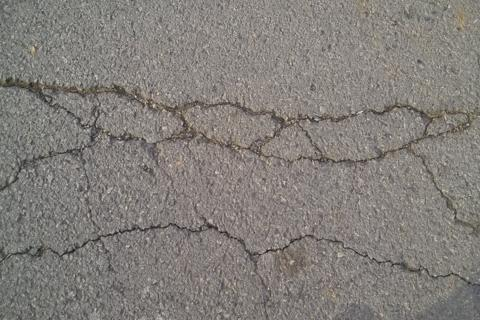alligator-crack: (4, 76, 480, 292)
